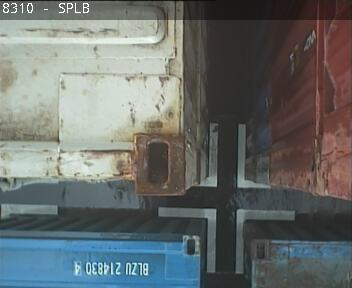groundmarker_1: (157, 207, 293, 275)
